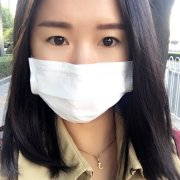face_mask: (31, 1, 129, 124)
